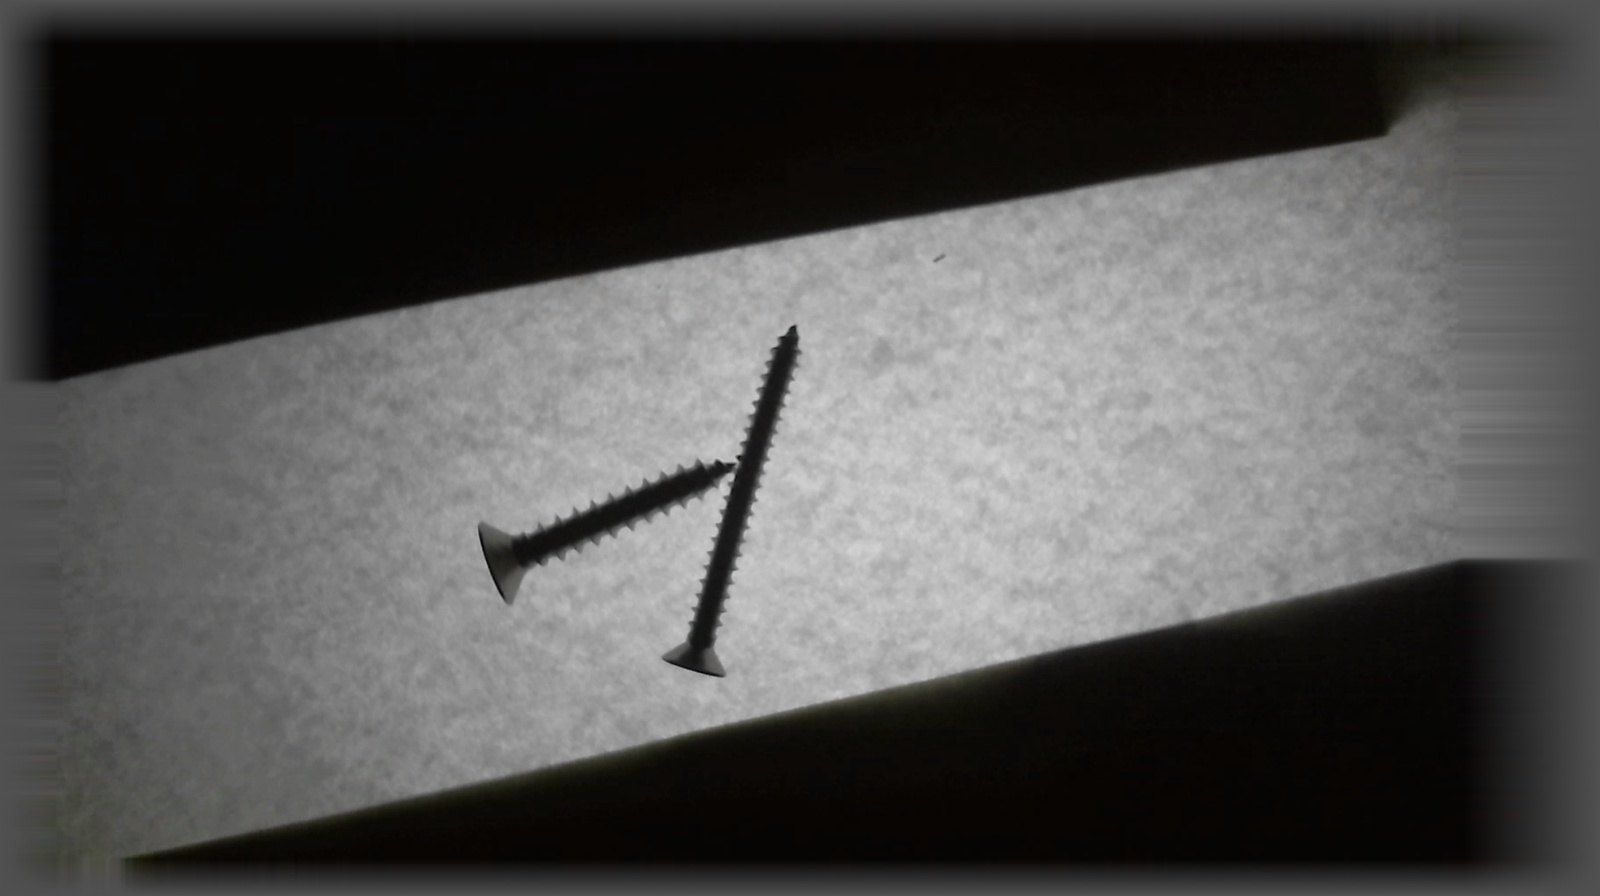S001: (468, 456, 744, 607)
S002: (653, 314, 813, 689)
